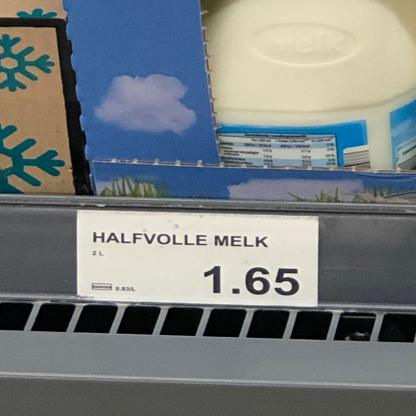prtg: (78, 209, 320, 308)
